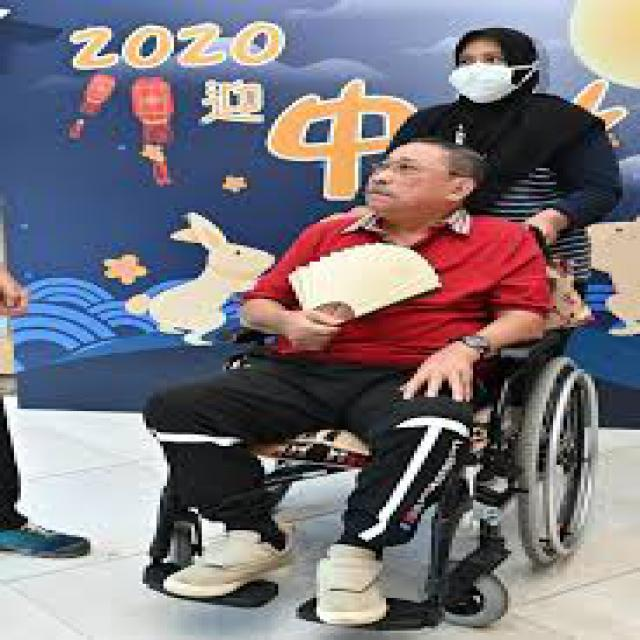wheelchairs: (142, 264, 612, 633)
